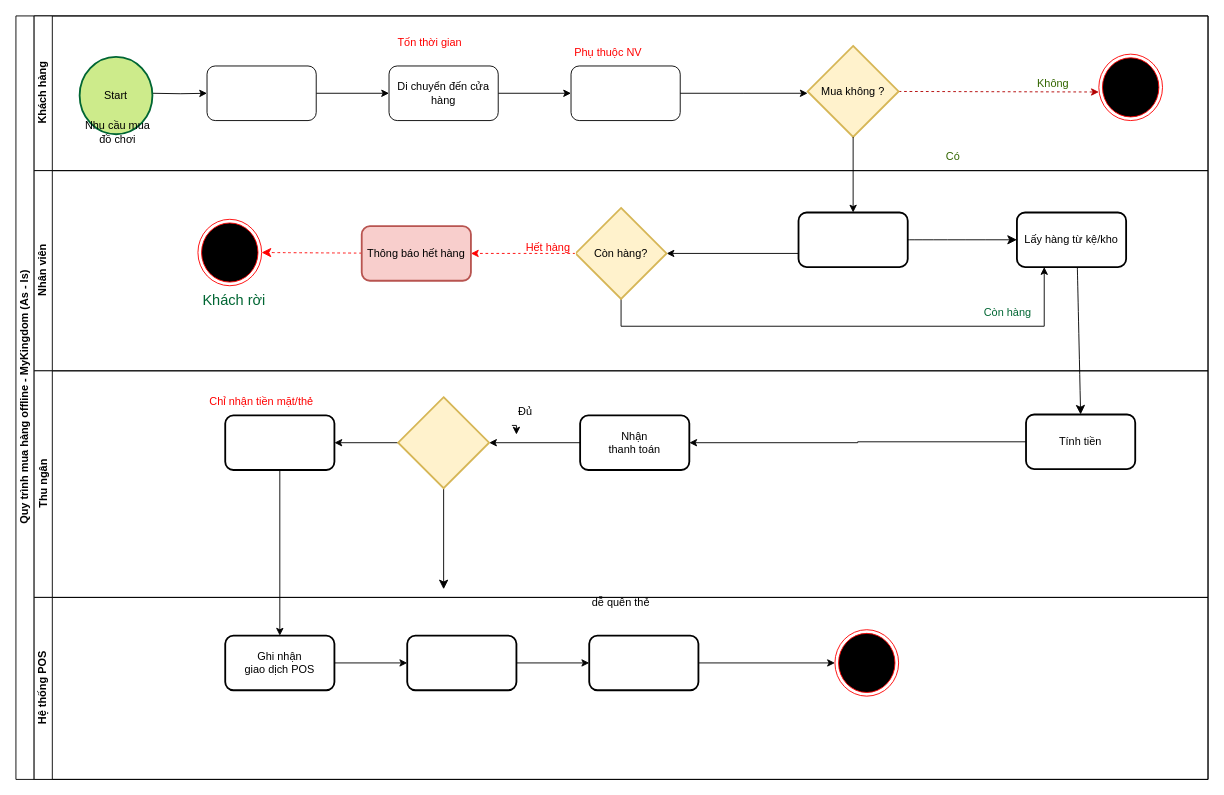
The diagram is 1224 pixels wide and 795 high, and some of its shapes have lost their labels. Each missing label, with the centre of its shape:
"Cập nhật tồn kho" goes at (461,662).
"In hóa đơn giấy" goes at (279,442).
"Quẹt thẻ My Points" goes at (643,662).
"Tiền đủ?" goes at (443,442).
"Tìm cửa hàng gần nhà" goes at (261,93).
"Tư vấn sản phẩm" goes at (852,239).
"Xem hàng & hỏi giá" goes at (625,93).
